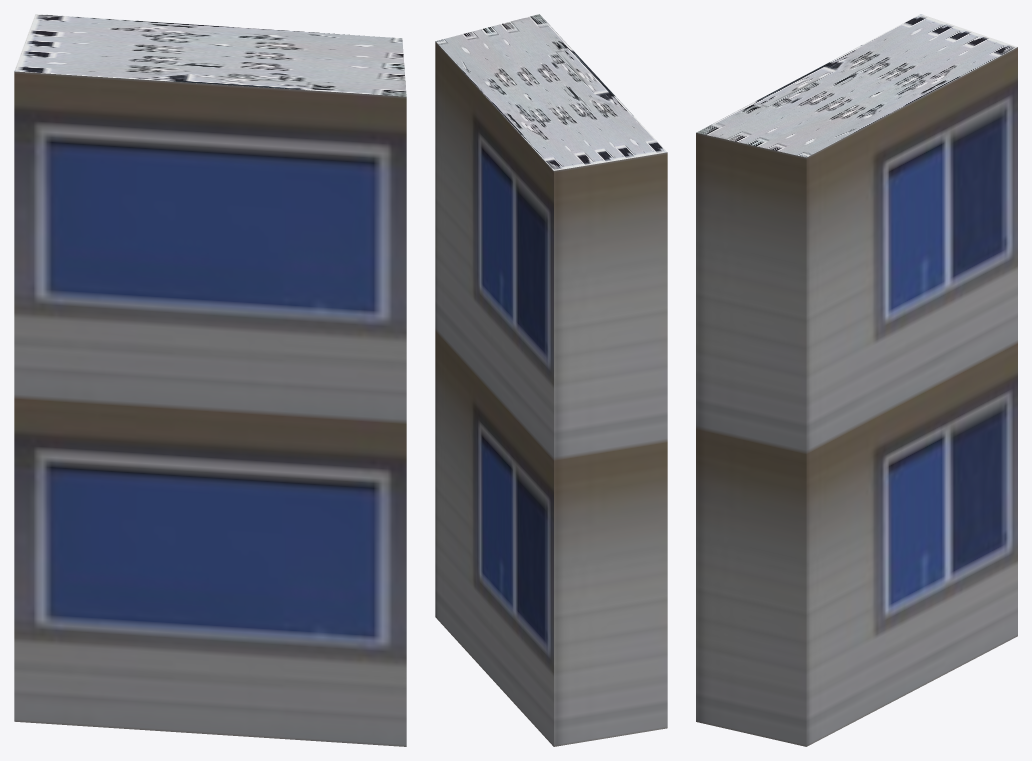
The model's file is ResTex__2952.fbx.
The picture shows the model from 3 angles, left to right: view 1: azimuth 30°, elevation 25°; view 2: azimuth 150°, elevation 25°; view 3: azimuth 270°, elevation 25°; orthographic projection. The views are drawn at different scales.
Visible parts, largest first — view 1: CityEngineMaterial_23_m, CityEngineMaterial_m; view 2: CityEngineMaterial_23_m, CityEngineMaterial_m; view 3: CityEngineMaterial_23_m, CityEngineMaterial_m.
Part boxes in pixels (x1,y1,x2,y2): CityEngineMaterial_23_m: [14, 71, 406, 746]; CityEngineMaterial_m: [14, 14, 406, 96]; CityEngineMaterial_23_m: [435, 41, 667, 746]; CityEngineMaterial_m: [435, 14, 666, 170]; CityEngineMaterial_23_m: [696, 47, 1017, 746]; CityEngineMaterial_m: [696, 14, 1017, 157].
Bounding box in the file's own units: 3.14 × 6 × 2.97.
Materials: 2 (2 with a texture image).
